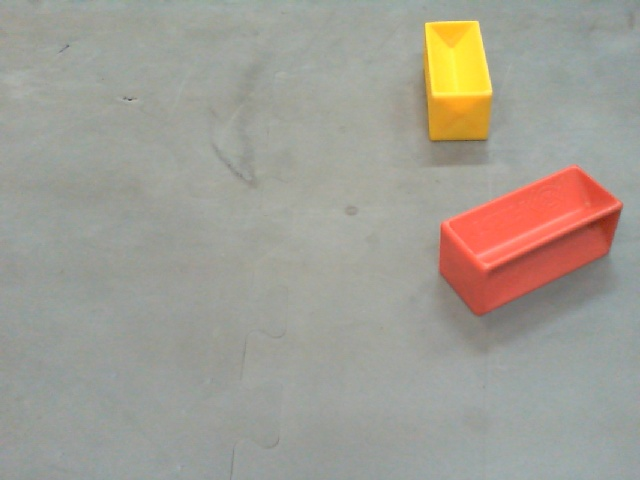RedSample: (439, 165, 625, 314)
YellowSample: (426, 20, 491, 141)
